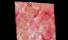plaque psoriasis: (13, 1, 55, 40)
